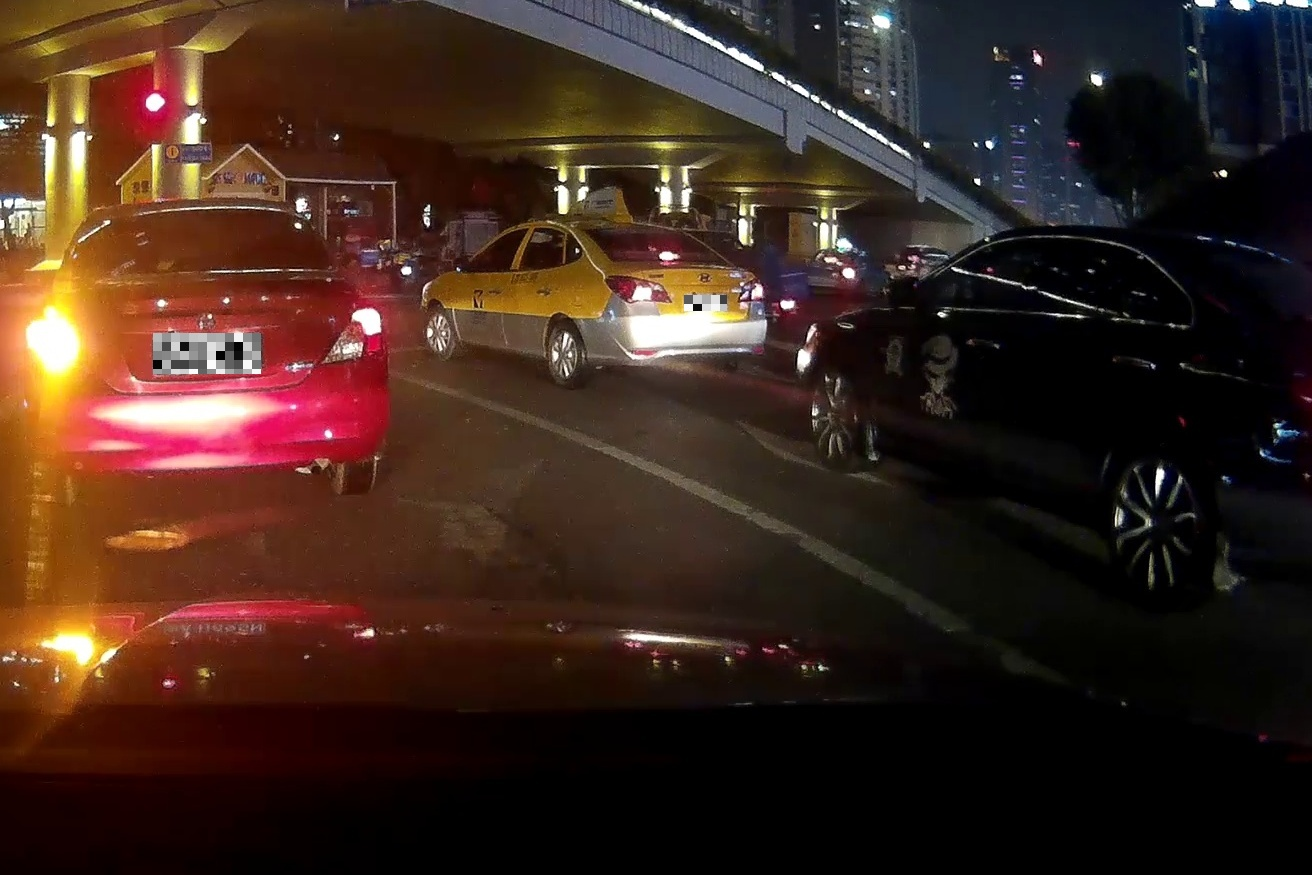L_light: (32, 315, 86, 374), (604, 275, 672, 305)
R_light: (319, 307, 384, 364), (736, 276, 767, 301)
T_light: (169, 207, 229, 221), (658, 252, 681, 262)
night-brake: (574, 217, 769, 388)
night-left: (25, 198, 389, 506)
plate_1: (153, 333, 261, 374)
plate_2: (684, 295, 727, 311)
